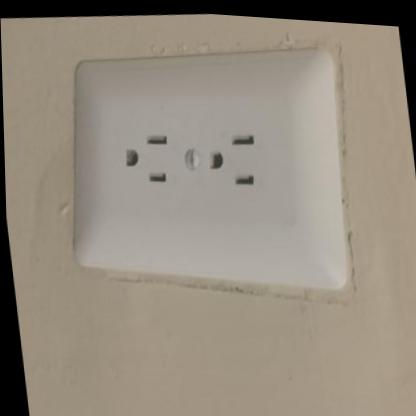OUTLET: (53, 31, 360, 299)
